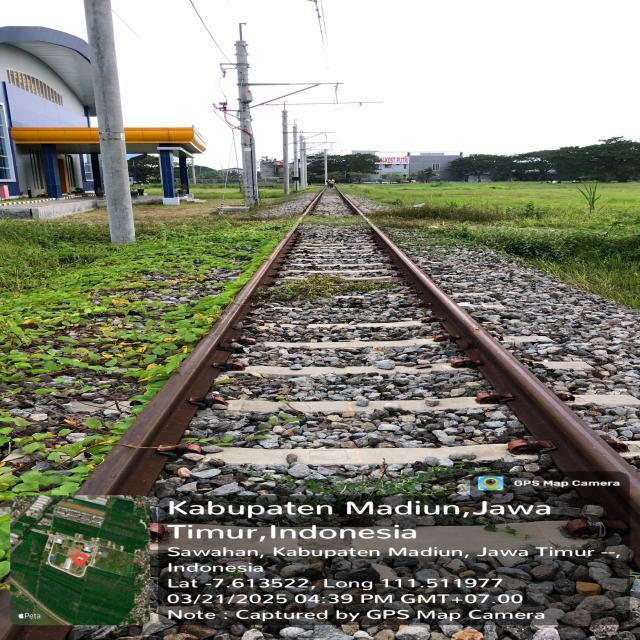rail-detection: (371, 223, 640, 553), (80, 228, 294, 494)
